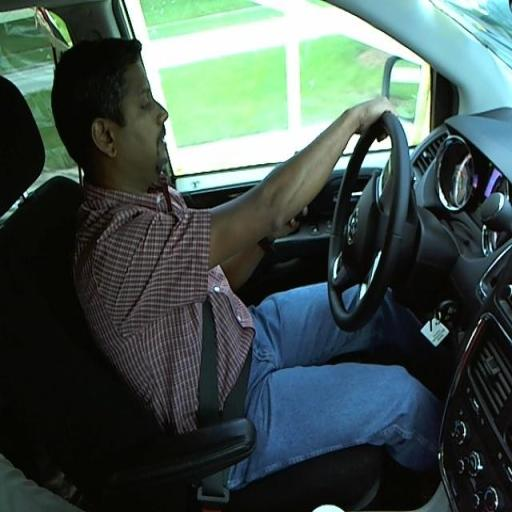texting_phone: (58, 56, 406, 378)
